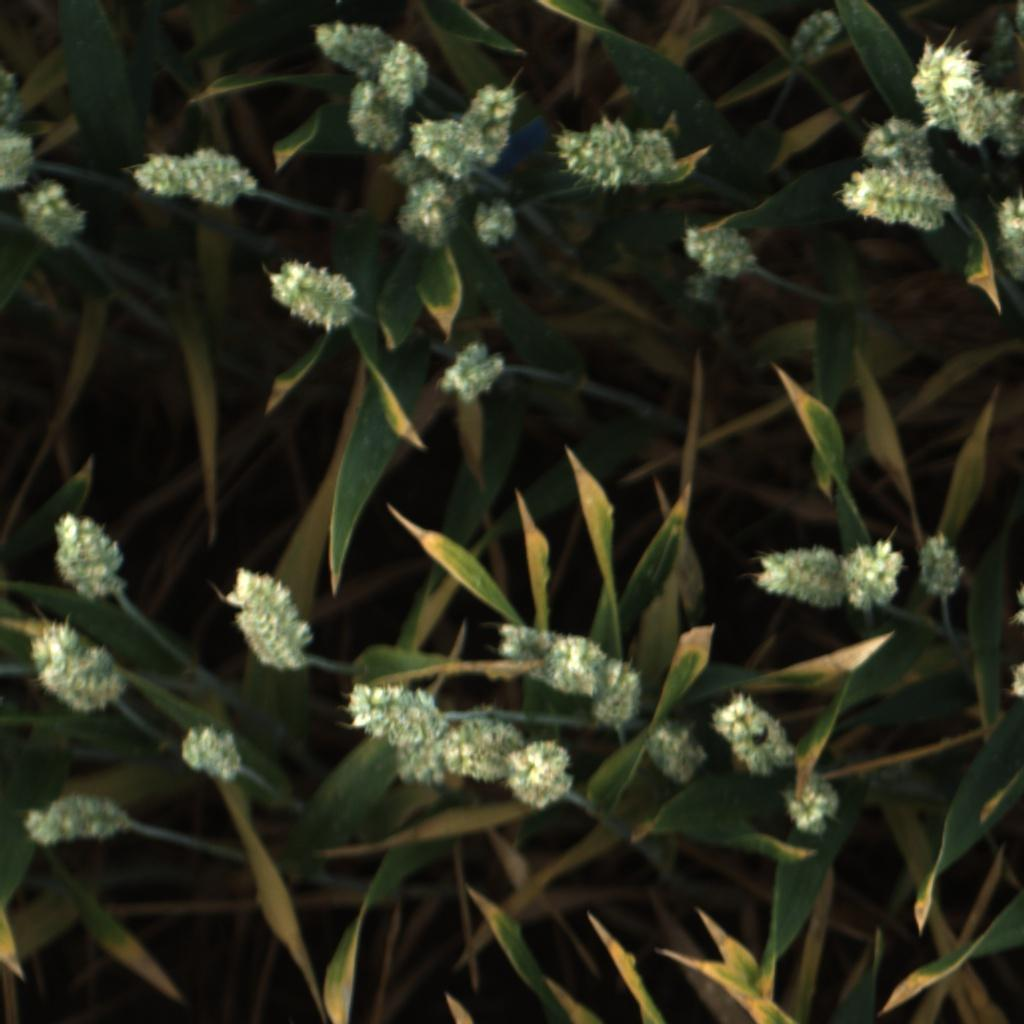0-0: (22, 616, 132, 718), (222, 562, 316, 675), (908, 39, 988, 149), (259, 253, 361, 338), (712, 686, 798, 782), (834, 169, 957, 236), (47, 508, 127, 604), (19, 786, 127, 855), (339, 672, 445, 742), (439, 710, 528, 786), (547, 117, 628, 193), (388, 718, 469, 794), (745, 548, 840, 612), (380, 144, 482, 203), (837, 530, 910, 612), (498, 735, 576, 810), (14, 180, 91, 255), (404, 112, 483, 184), (456, 79, 519, 168), (181, 143, 261, 212), (312, 16, 396, 79), (680, 220, 765, 282), (486, 607, 554, 683), (775, 773, 843, 846), (337, 78, 404, 151), (906, 526, 968, 604), (641, 719, 710, 788), (395, 180, 462, 251), (861, 117, 943, 175), (589, 650, 649, 726), (540, 634, 611, 698), (438, 340, 505, 405), (375, 35, 432, 110), (784, 6, 850, 69), (174, 721, 244, 779), (620, 126, 678, 194), (127, 148, 198, 201), (991, 189, 1024, 280), (469, 198, 520, 248), (0, 125, 37, 192), (982, 82, 1024, 138), (987, 16, 1019, 80), (0, 66, 28, 127), (680, 268, 719, 306), (994, 130, 1024, 160), (1015, 0, 1024, 41)
